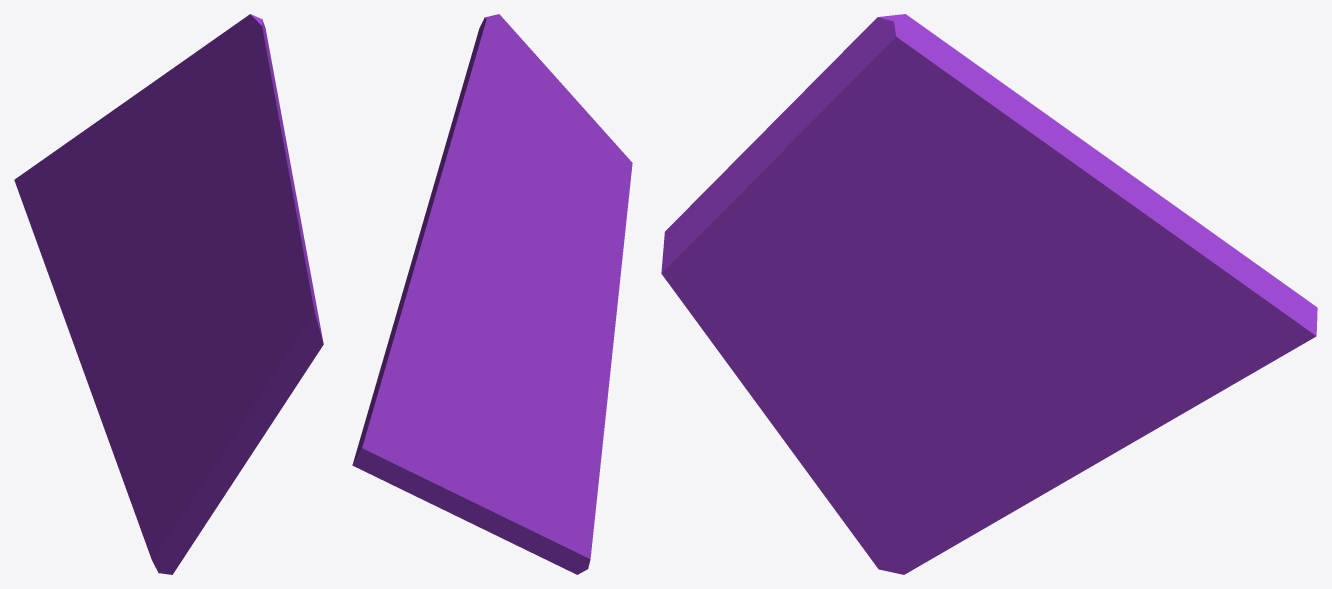
Rendered from Window_3_12_chunks.fbx.
3 views of the same model, side by side, from view 1: azimuth 30°, elevation 25°; view 2: azimuth 150°, elevation 25°; view 3: azimuth 270°, elevation 25° (orthographic). The views are drawn at different scales.
Parts seen in each view (by area): view 1: Window_3_12_3, Window_3_12_6, Window_3_12_2, Window_3_12_9, Window_3_12_1, Window_3_12_11, Window_3_12_13, Window_3_12_5, Window_3_12_7, Window_3_12_15, Window_3_12_12, Window_3_12_8 (+1 smaller); view 2: Window_3_12_3, Window_3_12_2, Window_3_12_11, Window_3_12_9, Window_3_12_1, Window_3_12_6, Window_3_12_13, Window_3_12_5, Window_3_12_7, Window_3_12_15, Window_3_12_12, Window_3_12_8 (+1 smaller); view 3: Window_3_12_3, Window_3_12_2, Window_3_12_7, Window_3_12_6, Window_3_12_9, Window_3_12_11, Window_3_12_1, Window_3_12_13, Window_3_12_15, Window_3_12_8, Window_3_12_12, Window_3_12_10 (+1 smaller).
Boxes of the visible parts, x1,y1,x2,y2 form: Window_3_12_3: (14, 152, 158, 376); Window_3_12_6: (193, 318, 317, 512); Window_3_12_2: (89, 387, 212, 574); Window_3_12_9: (206, 26, 291, 243); Window_3_12_1: (137, 255, 212, 513); Window_3_12_11: (111, 14, 266, 154); Window_3_12_13: (54, 129, 179, 274); Window_3_12_5: (233, 259, 319, 352); Window_3_12_7: (232, 163, 323, 352); Window_3_12_15: (86, 112, 201, 196); Window_3_12_12: (172, 153, 222, 285); Window_3_12_8: (190, 233, 234, 376); Window_3_12_3: (352, 319, 511, 518); Window_3_12_2: (462, 440, 600, 574); Window_3_12_11: (413, 14, 499, 272); Window_3_12_9: (499, 14, 562, 228); Window_3_12_1: (496, 303, 602, 464); Window_3_12_6: (562, 227, 625, 445); Window_3_12_13: (381, 258, 518, 374); Window_3_12_5: (555, 145, 632, 270); Window_3_12_7: (544, 85, 615, 225); Window_3_12_15: (397, 188, 495, 316); Window_3_12_12: (487, 183, 540, 308); Window_3_12_8: (529, 209, 572, 366); Window_3_12_3: (996, 258, 1317, 451); Window_3_12_2: (821, 400, 1115, 574); Window_3_12_7: (661, 119, 868, 294); Window_3_12_6: (669, 284, 883, 489); Window_3_12_9: (776, 17, 936, 238); Window_3_12_11: (878, 14, 1148, 189); Window_3_12_1: (820, 289, 1003, 490); Window_3_12_13: (953, 218, 1247, 291); Window_3_12_15: (950, 176, 1191, 233); Window_3_12_8: (825, 230, 919, 372); Window_3_12_12: (877, 179, 979, 288); Window_3_12_10: (923, 120, 993, 179).
Size of the model in its own units: 217 by 987 by 960.
